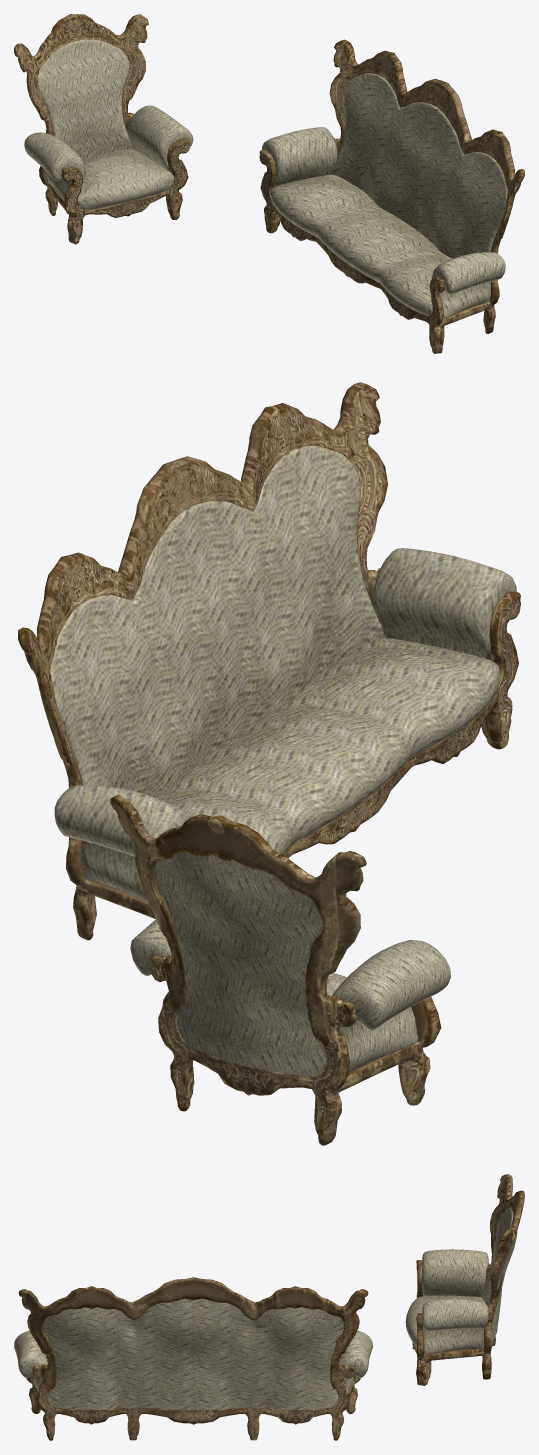
Rendered from compressed_1730576090989_royal_sofa_set_mezza.glb.
The picture shows the model from 3 angles, top to bottom: view 1: azimuth 30°, elevation 25°; view 2: azimuth 150°, elevation 25°; view 3: azimuth 270°, elevation 25°; orthographic projection. The views are drawn at different scales.
Parts seen in each view (by area): view 1: Mezza_Mezza__0; view 2: Mezza_Mezza__0; view 3: Mezza_Mezza__0.
Part boxes in pixels (x1,y1,x2,y2): Mezza_Mezza__0: (14,14,524,353); Mezza_Mezza__0: (18,382,520,1145); Mezza_Mezza__0: (14,1174,524,1440).
Bounding box in the file's own units: 1.91 × 1.24 × 3.25.
Materials: 1 (1 with a texture image).
